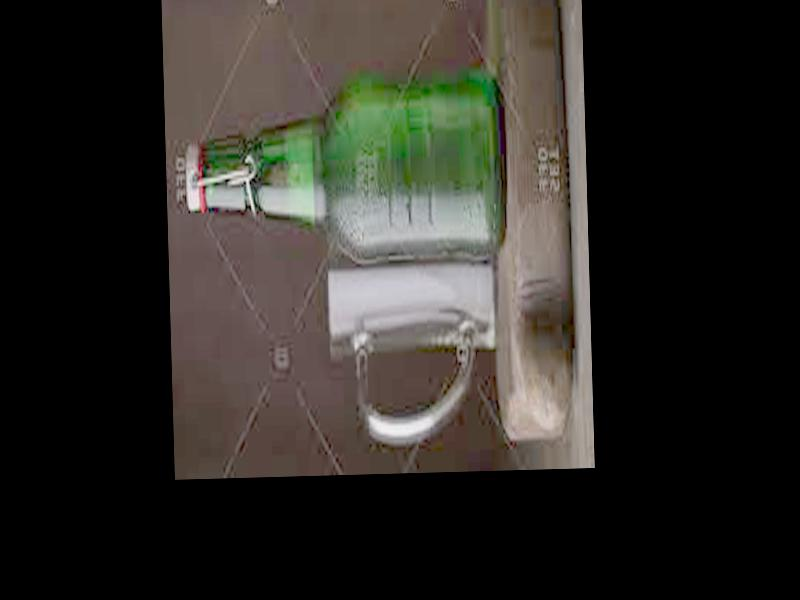Beer: (184, 76, 508, 262)
